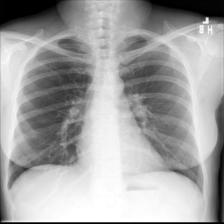normal: (3, 28, 208, 198)
